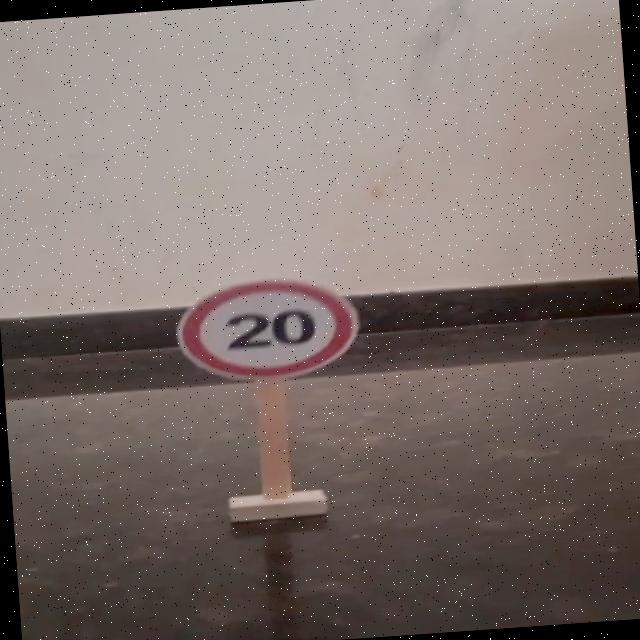Speed20: (163, 267, 369, 393)
